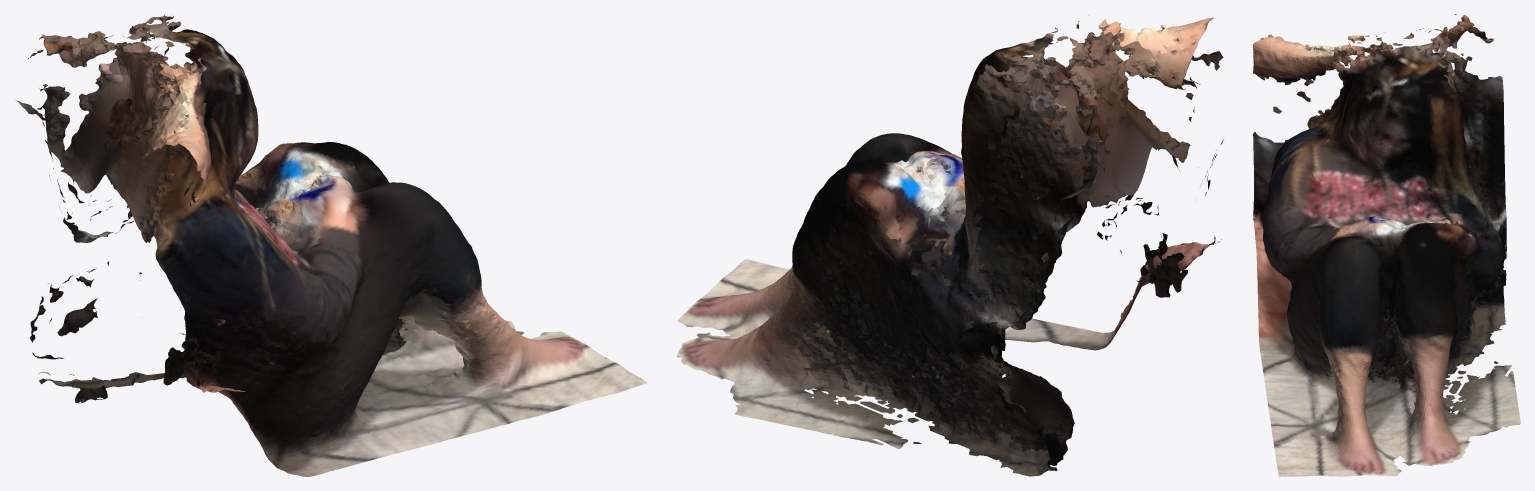
The picture shows the model from 3 angles, left to right: view 1: azimuth 30°, elevation 25°; view 2: azimuth 150°, elevation 25°; view 3: azimuth 270°, elevation 25°; orthographic projection. The views are drawn at different scales.
Size of the model in its own units: 0.9705 by 0.7292 by 0.6145.
1 material, 1 textured.
